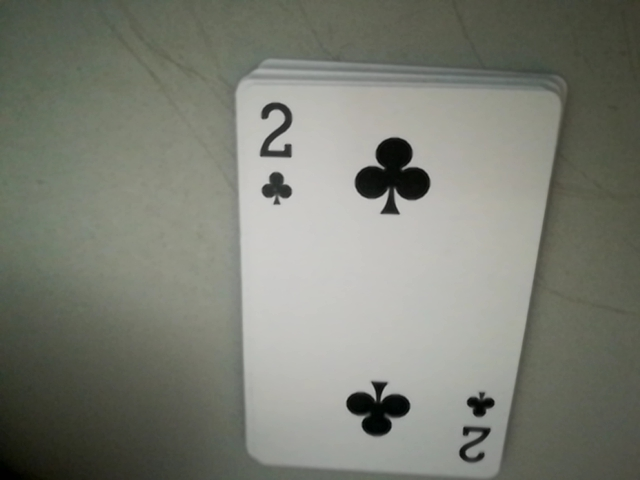mh 2: (240, 93, 303, 211), (453, 386, 504, 475)
